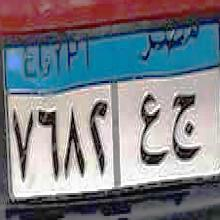2: (89, 99, 109, 172)
6: (38, 104, 62, 178)
7: (12, 107, 34, 181)
8: (65, 101, 84, 180)
ain: (141, 86, 165, 167)
jeem: (172, 84, 198, 164)
